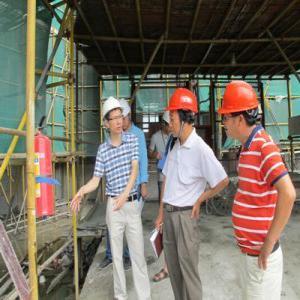red: (221, 80, 261, 144), (169, 86, 200, 141)
white: (102, 98, 124, 136), (120, 100, 133, 131)
